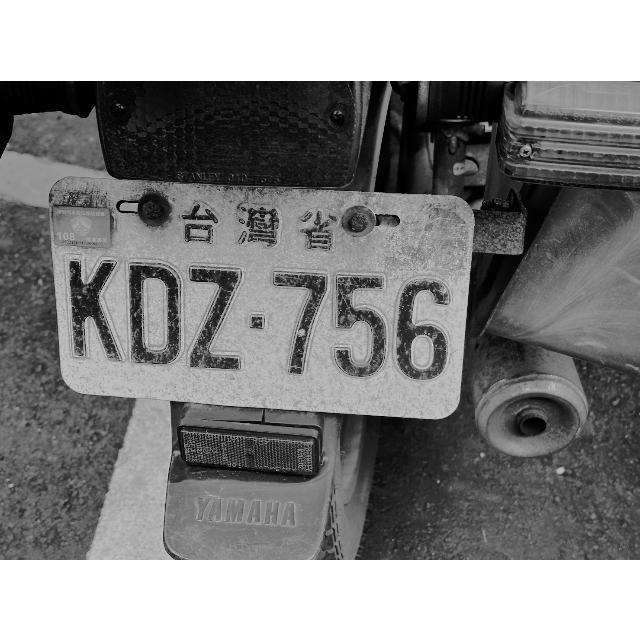-: (246, 305, 268, 337)
5: (333, 269, 391, 387)
6: (395, 274, 457, 384)
7: (273, 263, 329, 382)
D: (126, 255, 186, 368)
K: (66, 252, 126, 366)
Z: (186, 262, 244, 374)
